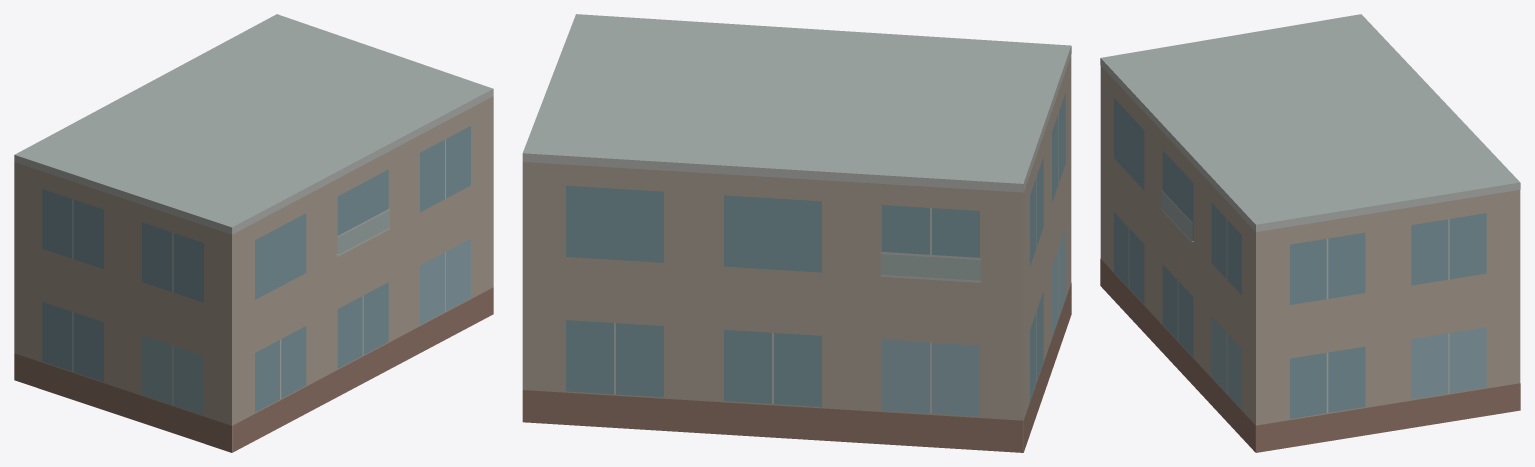
The model's file is survey-upis-32928291.glb.
3 views of the same model, side by side, from view 1: azimuth 30°, elevation 25°; view 2: azimuth 150°, elevation 25°; view 3: azimuth 270°, elevation 25° (orthographic). The views are drawn at different scales.
Visible parts, largest first — view 1: survey-upis-32928291.tmp; view 2: survey-upis-32928291.tmp; view 3: survey-upis-32928291.tmp.
Boxes of the visible parts, bbox=[...] form: survey-upis-32928291.tmp: bbox=[14, 14, 493, 452]; survey-upis-32928291.tmp: bbox=[522, 14, 1071, 452]; survey-upis-32928291.tmp: bbox=[1100, 14, 1520, 452].
Size of the model in its own units: 15.08 by 7.6 by 12.7.
